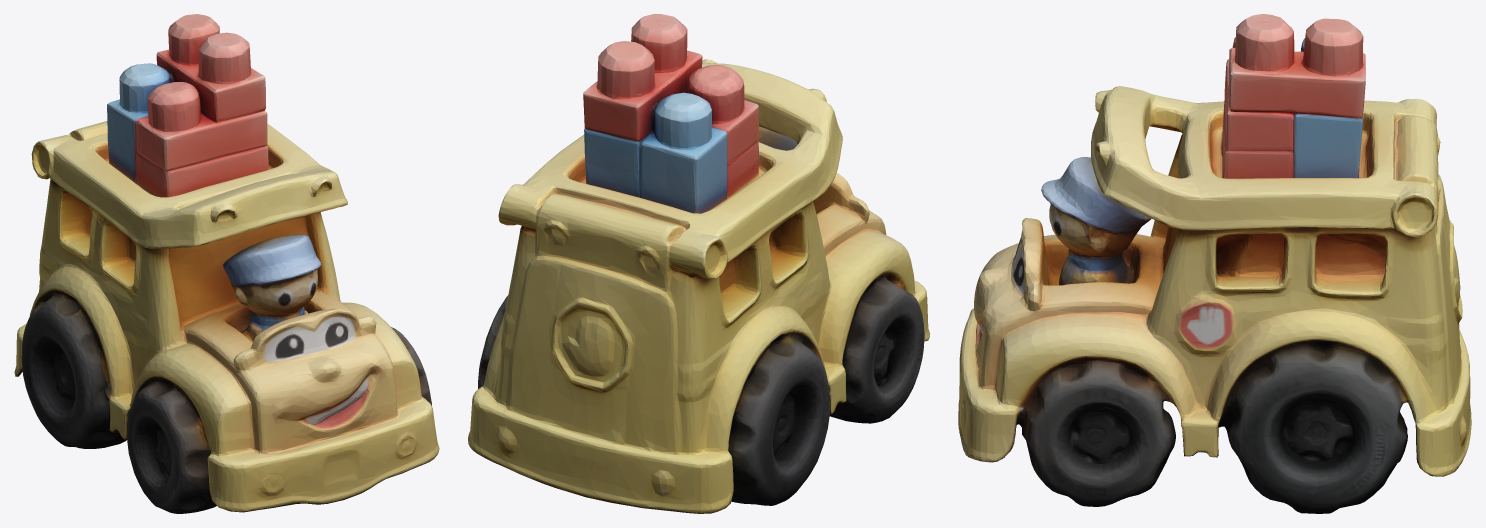
The model's file is Sonny_School_Bus_ori.glb.
3 renders of one model, left to right at view 1: azimuth 30°, elevation 25°; view 2: azimuth 150°, elevation 25°; view 3: azimuth 270°, elevation 25°, orthographic. The views are drawn at different scales.
Parts seen in each view (by area): view 1: world; view 2: world; view 3: world.
Boxes of the visible parts, x1=… form: world: x1=14, y1=14, x2=439, y2=513; world: x1=468, y1=14, x2=929, y2=513; world: x1=958, y1=14, x2=1471, y2=513.
Size of the model in its own units: 0.6778 by 0.9591 by 1.
Materials: 1 (1 with a texture image).
